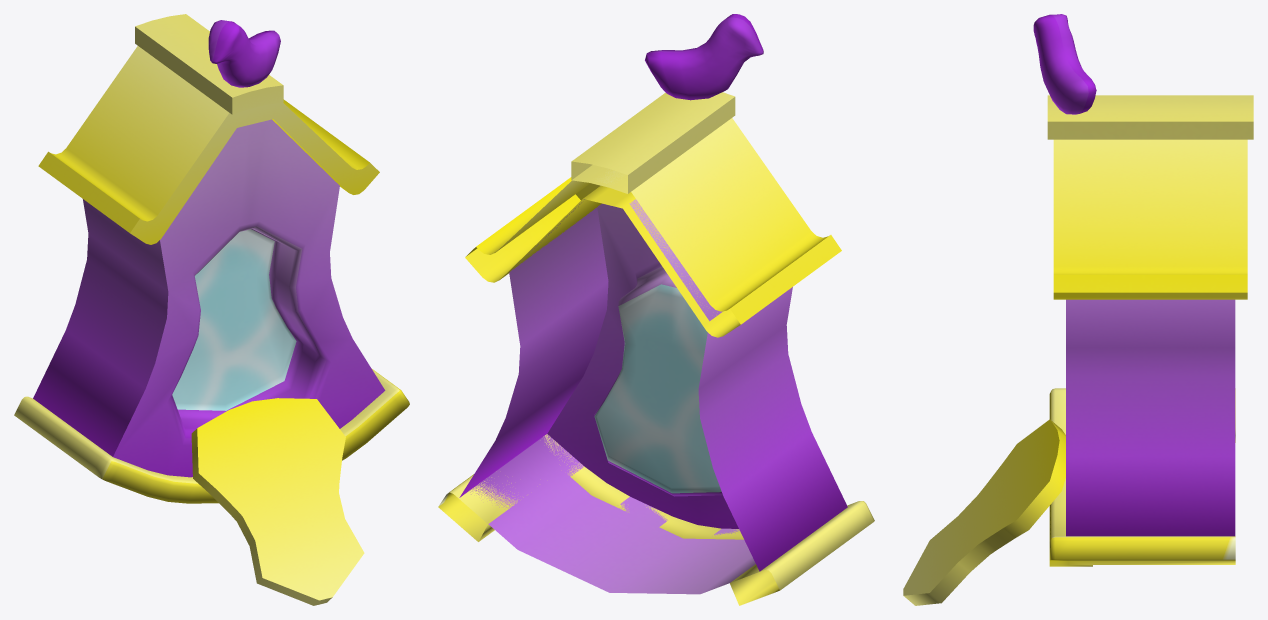
File: Mailbox_E_purple.fbx
3 renders of one model, left to right at view 1: azimuth 30°, elevation 25°; view 2: azimuth 150°, elevation 25°; view 3: azimuth 270°, elevation 25°, orthographic. The views are drawn at different scales.
Parts seen in each view (by area): view 1: MailboxE_purple; view 2: MailboxE_purple; view 3: MailboxE_purple.
Part boxes in pixels (bbox=[...]): MailboxE_purple: bbox=[14, 14, 409, 605]; MailboxE_purple: bbox=[438, 14, 874, 605]; MailboxE_purple: bbox=[903, 14, 1253, 605].
Size of the model in its own units: 1.31 by 1.21 by 2.19.
